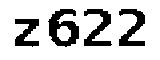2: (82, 7, 114, 50), (118, 6, 147, 50)
6: (46, 7, 82, 47)
z: (9, 14, 41, 50)
